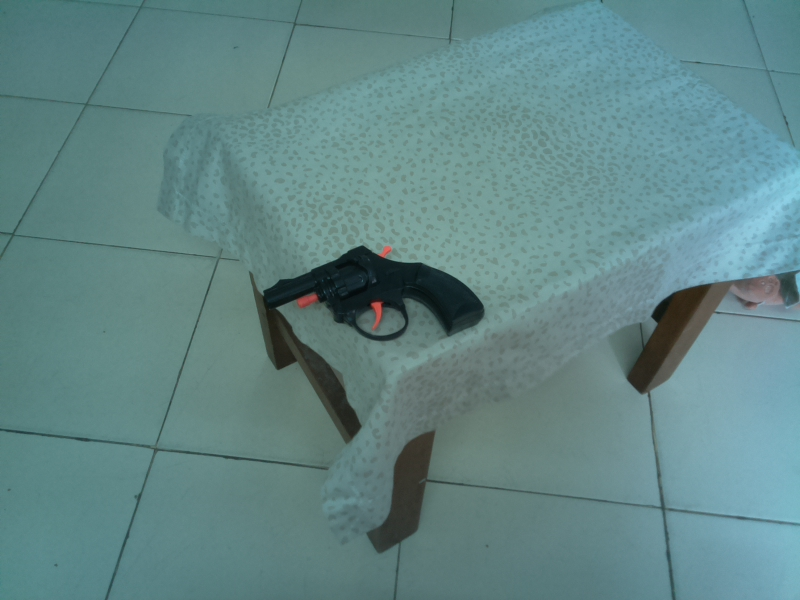Gun: (260, 243, 489, 344)
